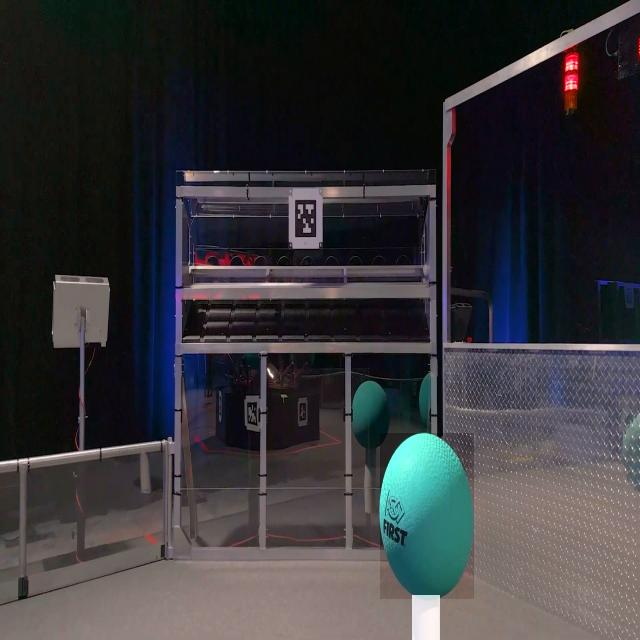Algae: (380, 433, 474, 599)
Coral: (412, 595, 440, 640)
